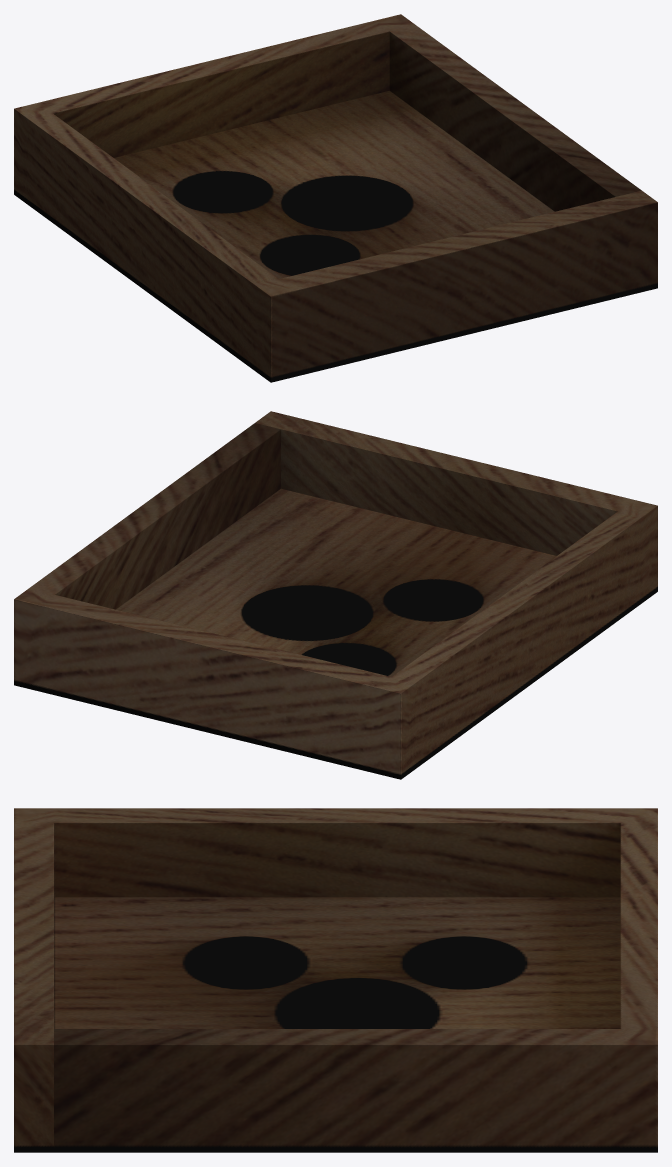
3 views of the same model, one above another, from view 1: azimuth 30°, elevation 25°; view 2: azimuth 150°, elevation 25°; view 3: azimuth 270°, elevation 25° (orthographic). The views are drawn at different scales.
Visible parts, largest first — view 1: Room; view 2: Room; view 3: Room.
Boxes of the visible parts, left/top/right/bottom form: Room: left=14, top=14, right=657, bottom=382; Room: left=14, top=411, right=657, bottom=779; Room: left=14, top=808, right=657, bottom=1152.
Bounding box in the file's own units: 3.31 × 0.7031 × 3.81.
Materials: 1 (1 with a texture image).
